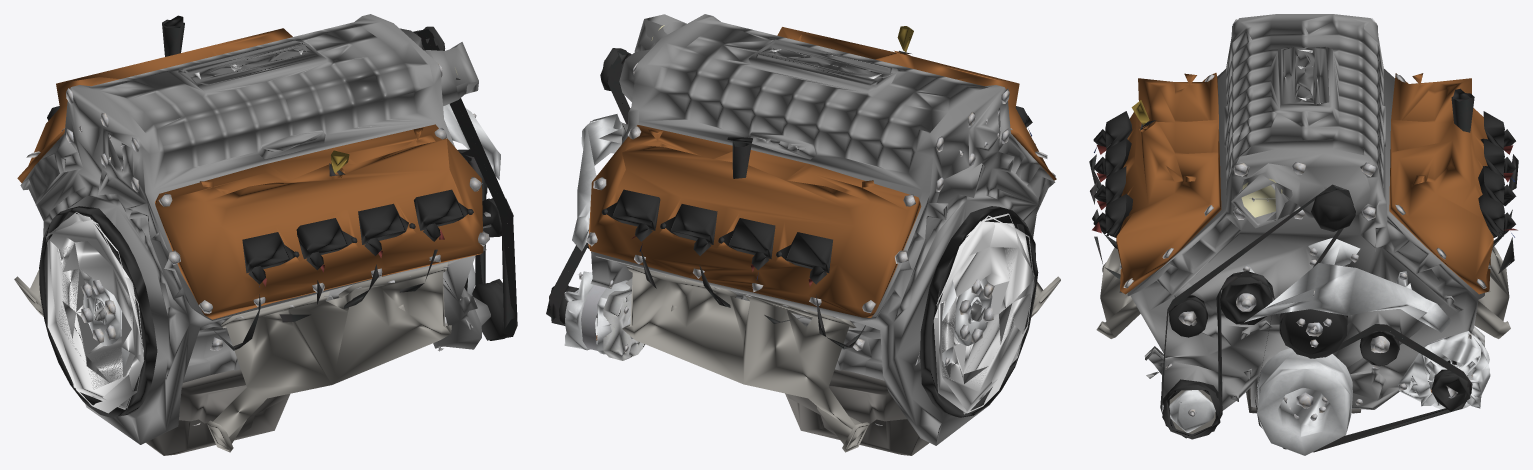
The model's file is engineAssembly_v8_engine_a01.glb.
3 views of the same model, side by side, from view 1: azimuth 30°, elevation 25°; view 2: azimuth 150°, elevation 25°; view 3: azimuth 270°, elevation 25° (orthographic). The views are drawn at different scales.
Parts seen in each view (by area): view 1: engine_01_mesh_00, gear_01_mesh_00, strap_01_mesh_00, gear_03_mesh_00, gear_04_mesh_00; view 2: engine_01_mesh_00, gear_01_mesh_00, strap_01_mesh_00; view 3: engine_01_mesh_00, gear_02_mesh_00, strap_01_mesh_00, gear_03_mesh_00, gear_06_mesh_00, gear_05_mesh_00, gear_09_mesh_00, gear_04_mesh_00, gear_08_mesh_00, gear_07_mesh_00.
Part boxes in pixels (left/top/right/bottom): engine_01_mesh_00: left=14, top=14, right=500, bottom=455; gear_01_mesh_00: left=39, top=206, right=157, bottom=417; strap_01_mesh_00: left=413, top=29, right=517, bottom=340; gear_03_mesh_00: left=472, top=279, right=517, bottom=340; gear_04_mesh_00: left=482, top=198, right=513, bottom=237; engine_01_mesh_00: left=564, top=14, right=1060, bottom=455; gear_01_mesh_00: left=920, top=206, right=1038, bottom=417; strap_01_mesh_00: left=549, top=49, right=631, bottom=325; engine_01_mesh_00: left=1089, top=14, right=1518, bottom=413; gear_02_mesh_00: left=1257, top=348, right=1352, bottom=455; strap_01_mesh_00: left=1160, top=184, right=1472, bottom=452; gear_03_mesh_00: left=1162, top=379, right=1220, bottom=439; gear_06_mesh_00: left=1280, top=309, right=1347, bottom=358; gear_05_mesh_00: left=1220, top=277, right=1272, bottom=324; gear_09_mesh_00: left=1311, top=189, right=1355, bottom=231; gear_04_mesh_00: left=1168, top=295, right=1207, bottom=337; gear_08_mesh_00: left=1431, top=360, right=1470, bottom=411; gear_07_mesh_00: left=1360, top=329, right=1399, bottom=365.
Size of the model in its own units: 0.8906 by 0.7901 by 0.8725.
Materials: 20 (7 with a texture image).
